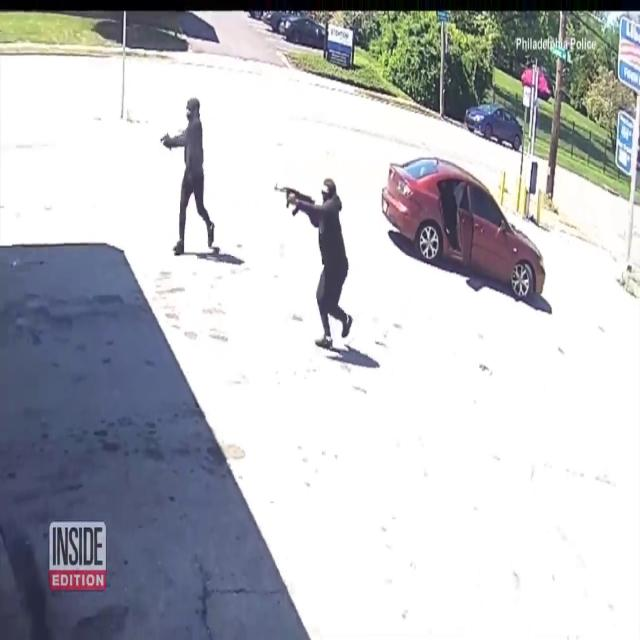penembakan: (275, 174, 351, 358), (160, 95, 218, 262)
